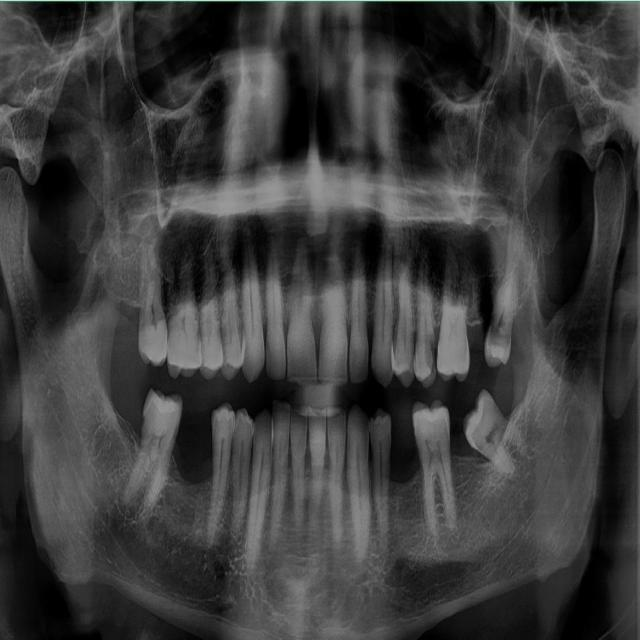Caries: (424, 327, 436, 372), (141, 409, 148, 432)
Missing teeth: (169, 402, 218, 486), (388, 410, 421, 484), (446, 408, 490, 462), (466, 322, 492, 371)
